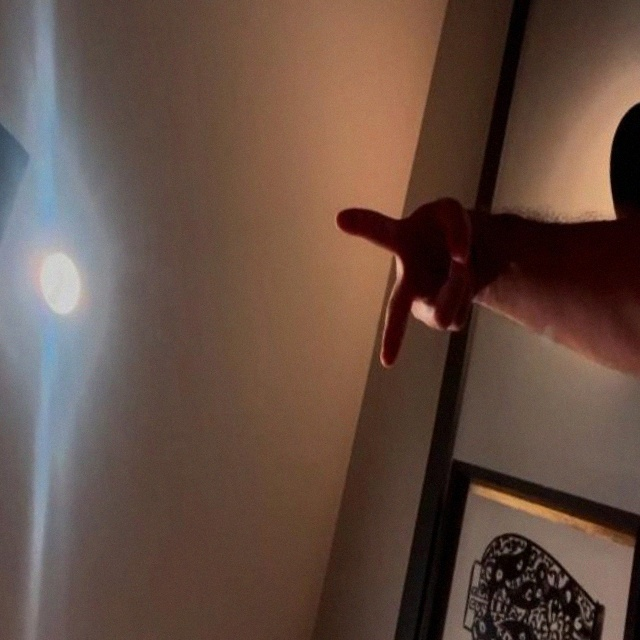Scissors: (332, 194, 489, 375)
